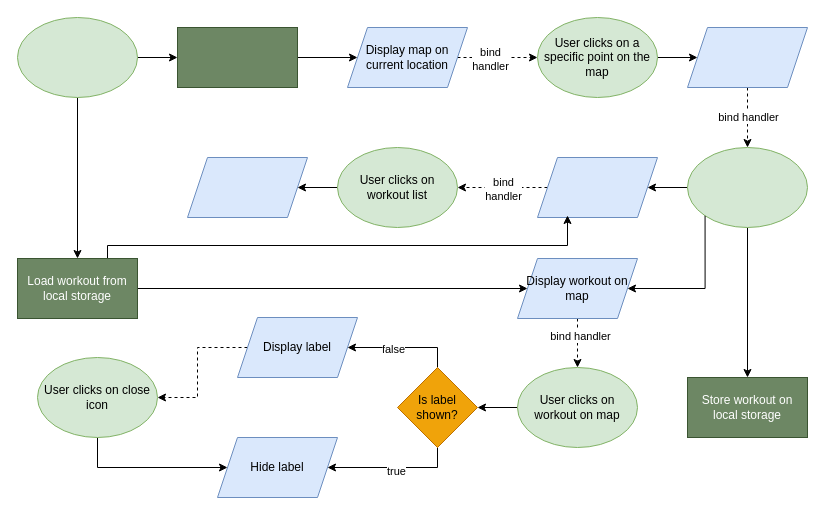
Some shapes in this 825 by 515 pixel diagram are drawn without their labels. The box of each missing label's shape, as (x1, y1, x2, y2) in pixels:
Display workout form: (686, 26, 808, 88)
Display workout on list: (536, 156, 658, 218)
Focus on the workout location on the map: (186, 156, 308, 218)
Get current location: (176, 26, 298, 88)
Page loads: (16, 16, 138, 98)
User submits the form: (686, 146, 808, 228)
